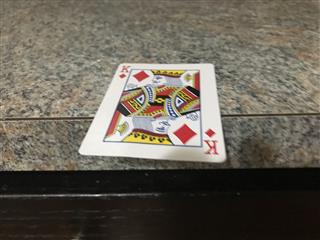KingOfDiamonds: (77, 61, 227, 163)
